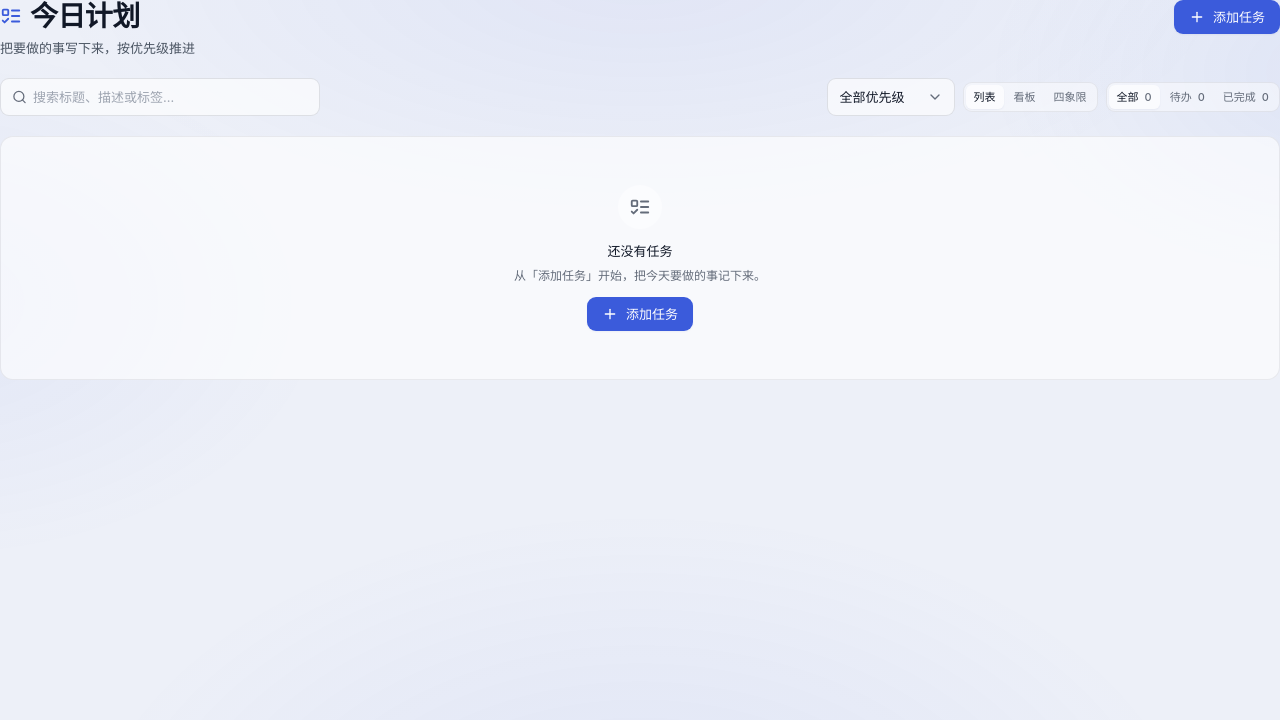
Scenario: TasksPage › 没有任务时给出空态与主操作
Expected: the text "还没有任务" is shown, x1=608 y1=244 x2=672 y2=260
Click the button "添加任务" in the row of "今日计划" at [1227, 17], box x1=1174 y1=0 x2=1279 y2=34
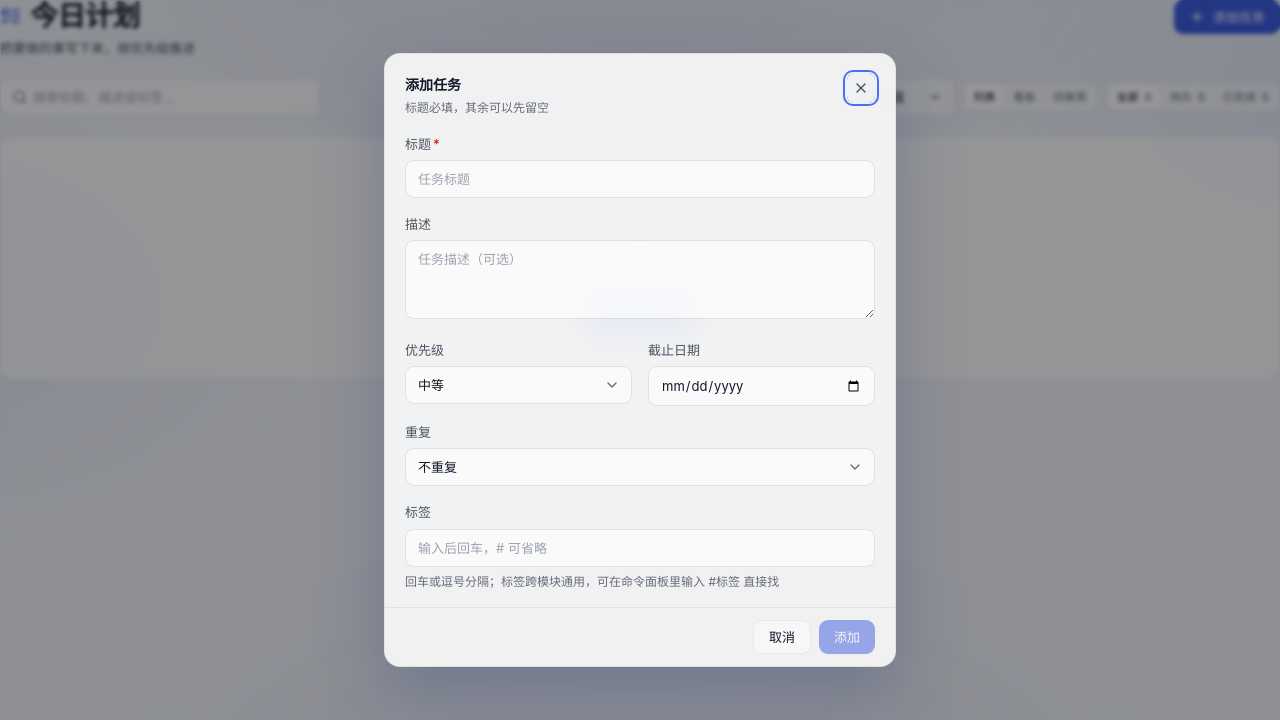
Result: the dialog "添加任务" is shown at x1=384 y1=53 x2=896 y2=667
